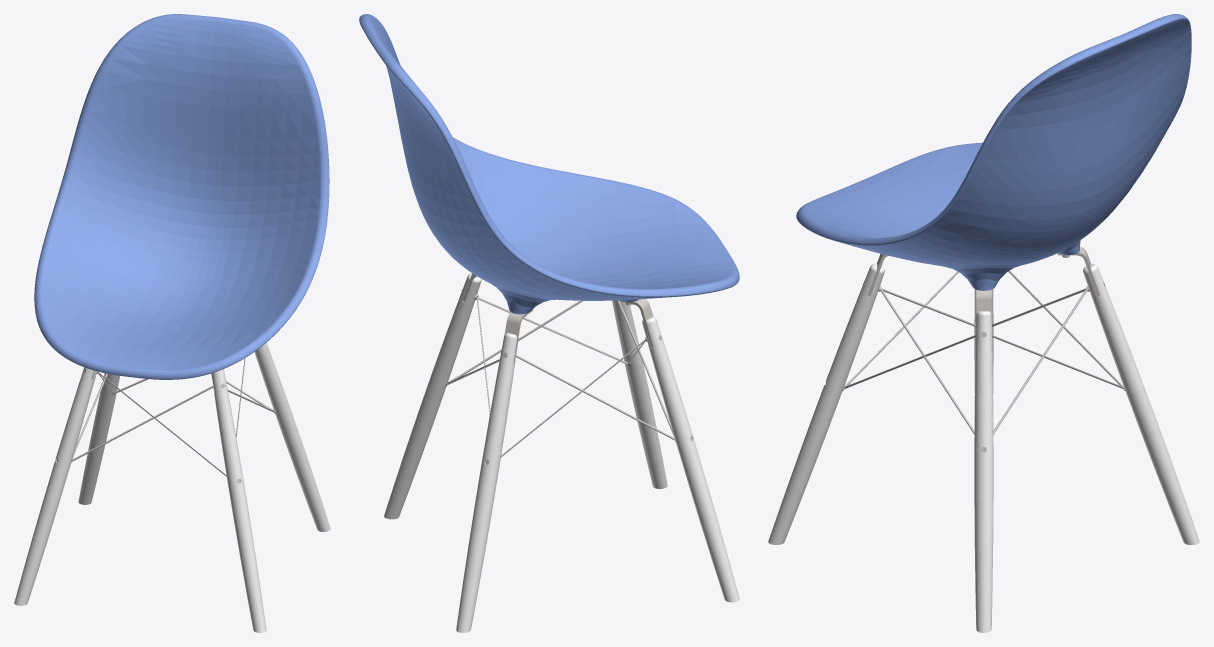
3 renders of one model, left to right at view 1: azimuth 30°, elevation 25°; view 2: azimuth 150°, elevation 25°; view 3: azimuth 270°, elevation 25°, orthographic. The views are drawn at different scales.
Parts seen in each view (by area): view 1: Separator (×6); view 2: Separator (×6); view 3: Separator (×5).
Boxes of the visible parts, x1=… form: Separator (×6): x1=14, y1=14, x2=330, y2=632; Separator (×6): x1=359, y1=14, x2=739, y2=632; Separator (×5): x1=768, y1=14, x2=1199, y2=632.
Bounding box in the file's own units: 0.5608 × 0.8148 × 0.5608.
